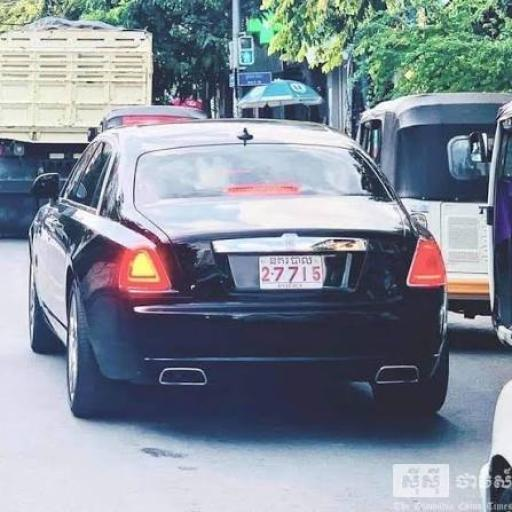Plate Number: (260, 253, 325, 286)
